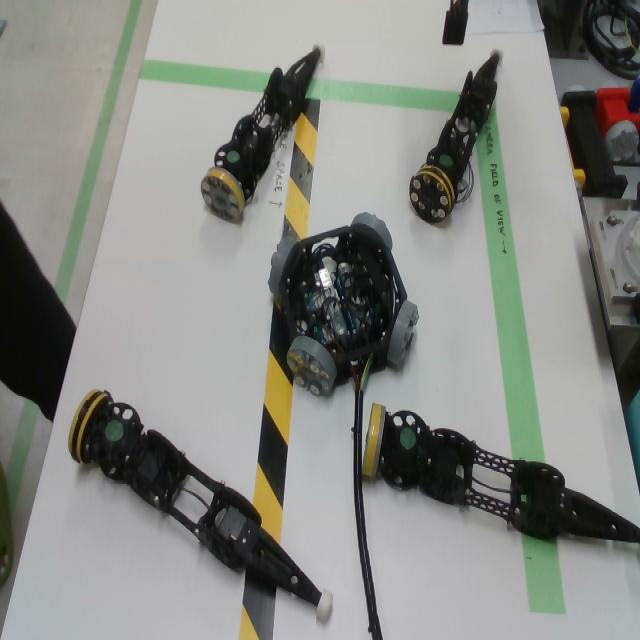body: (280, 225, 408, 385)
body_connector: (286, 336, 337, 397), (386, 300, 419, 369), (268, 237, 298, 296), (351, 212, 393, 251)
leg: (67, 389, 334, 628), (361, 403, 640, 544), (200, 40, 325, 221), (409, 45, 504, 224)
leg_connector: (68, 389, 113, 465), (409, 164, 456, 223), (200, 168, 245, 223), (362, 403, 386, 479)
leg_marker: (105, 420, 124, 443), (399, 427, 417, 451), (226, 151, 241, 164), (439, 154, 453, 166)
